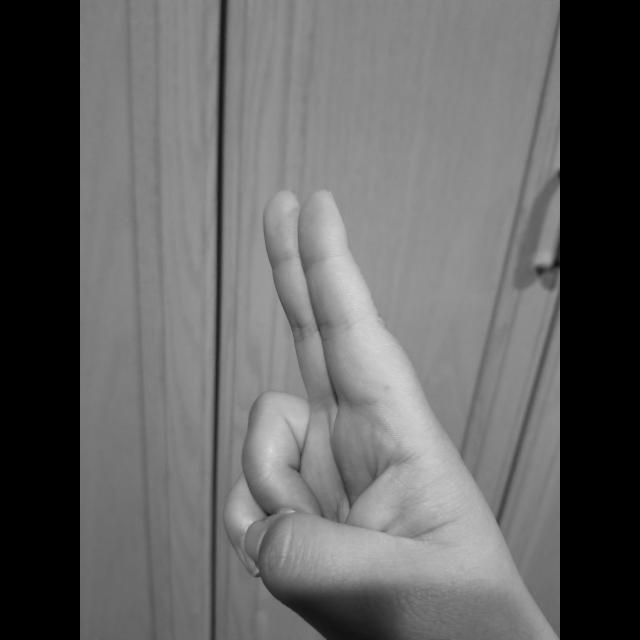U: (217, 184, 527, 640)
